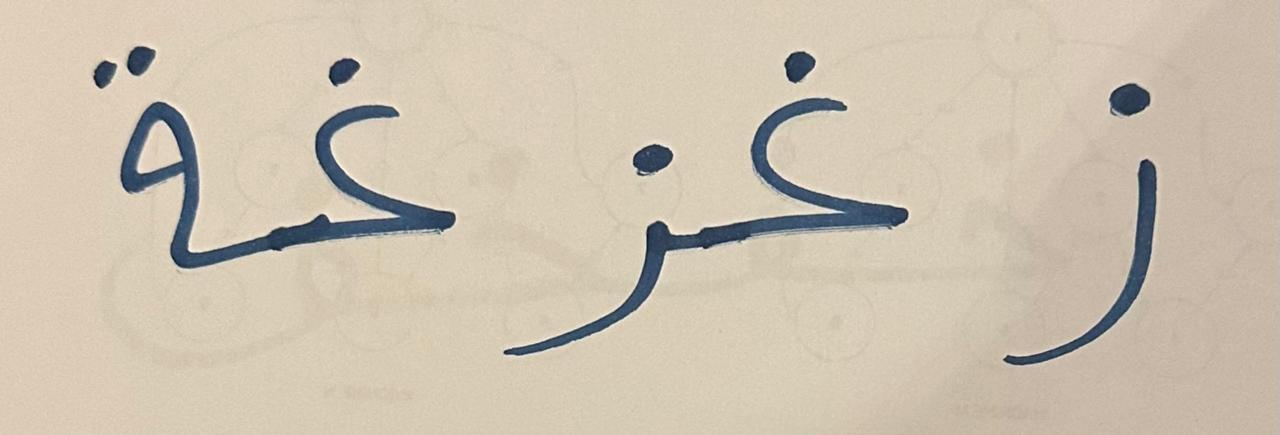ghain: (704, 17, 947, 331), (230, 13, 483, 309)
hamza: (951, 40, 1236, 395), (487, 92, 699, 389)
thal: (40, 4, 225, 321)
